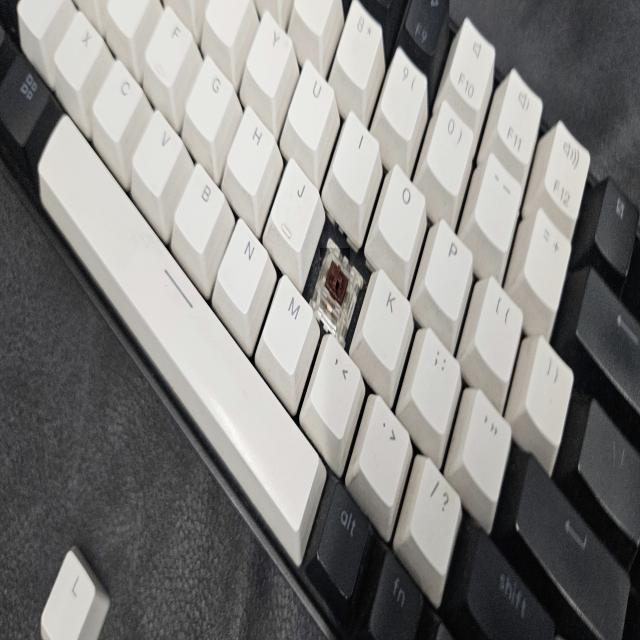C: (320, 248, 350, 309)
